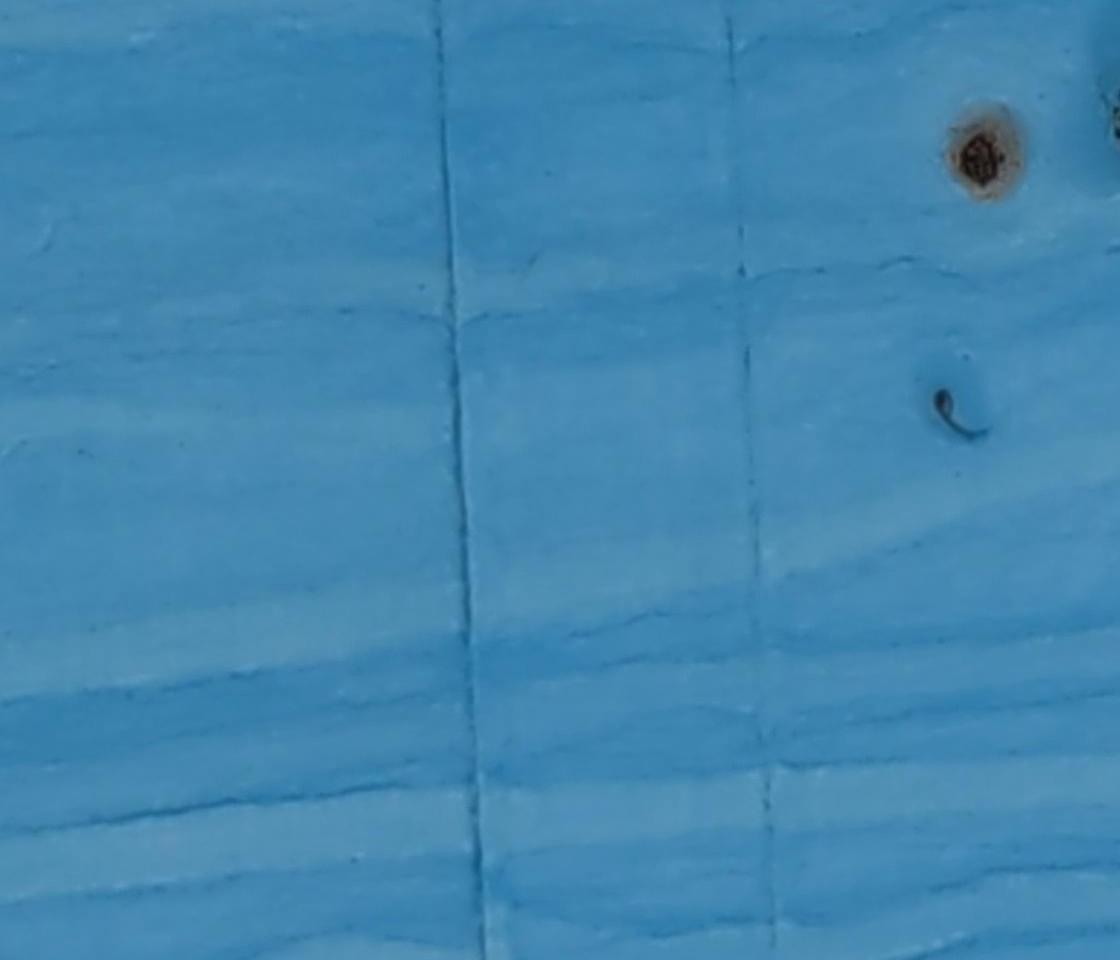rust: (944, 113, 1024, 201)
